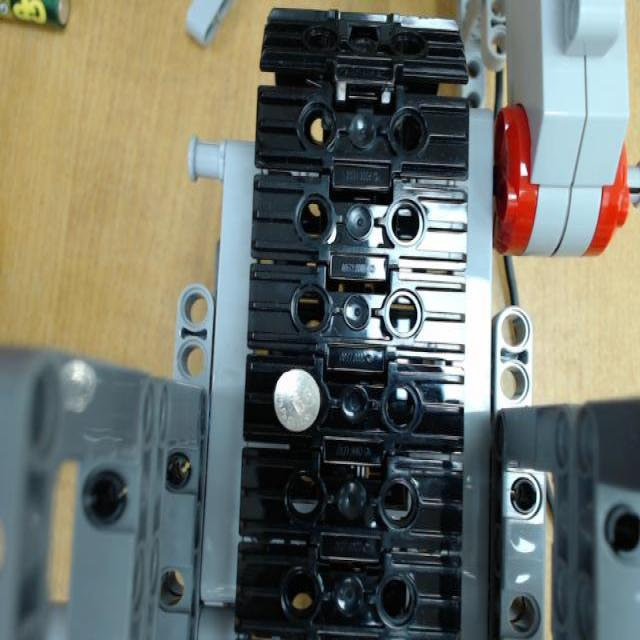COIN: (274, 365, 324, 439)
